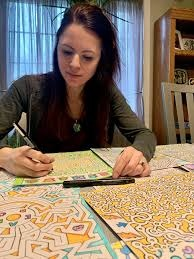maze: (1, 190, 80, 259), (118, 186, 194, 242)
